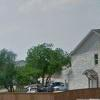Tree: (8, 36, 72, 83)
